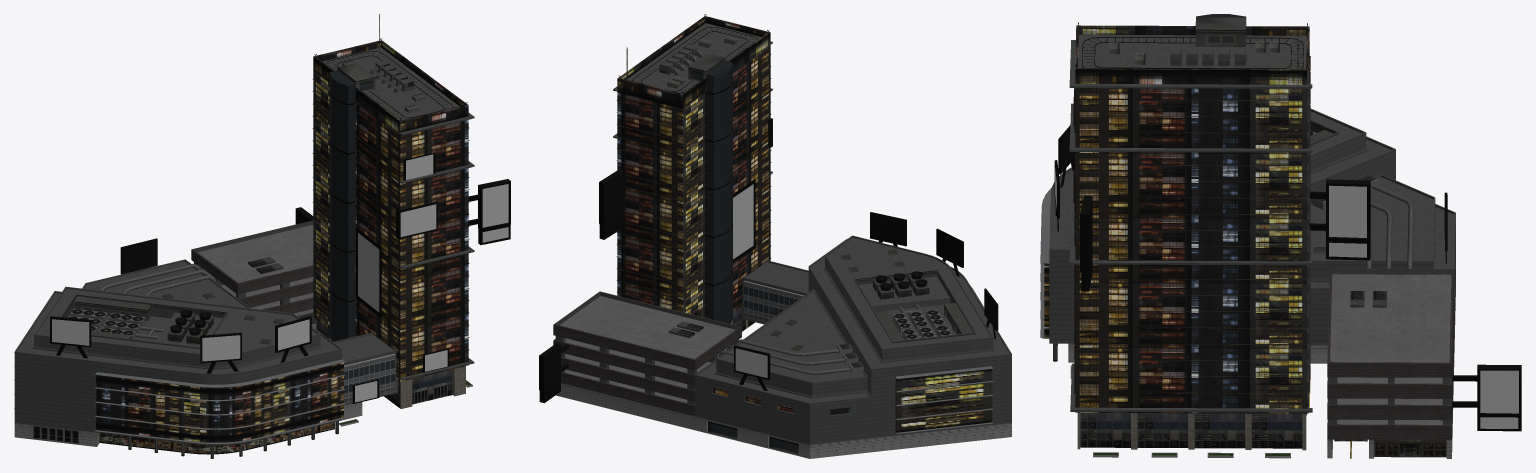
Rendered from BLD1310008.fbx.
The picture shows the model from 3 angles, left to right: view 1: azimuth 30°, elevation 25°; view 2: azimuth 150°, elevation 25°; view 3: azimuth 270°, elevation 25°; orthographic projection. The views are drawn at different scales.
Parts seen in each view (by area): view 1: smBLD1310008; view 2: smBLD1310008; view 3: smBLD1310008.
Boxes of the visible parts, left/top/right/bottom form: smBLD1310008: left=14, top=14, right=510, bottom=458; smBLD1310008: left=539, top=14, right=1011, bottom=458; smBLD1310008: left=1040, top=14, right=1521, bottom=458.
Size of the model in its own units: 7191 by 5101 by 5284.
7 materials, 2 textured.
